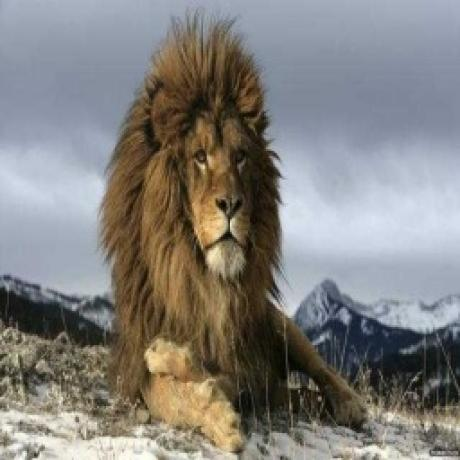Lion: (101, 11, 371, 450)
